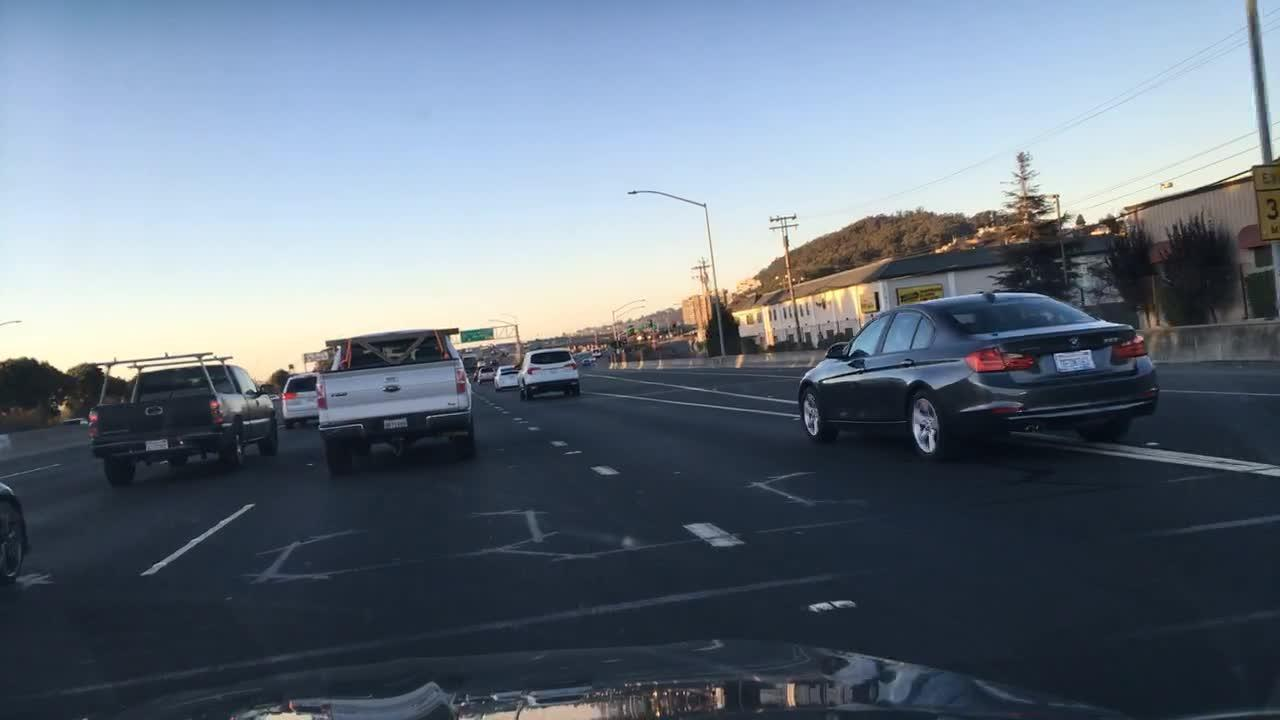bmw: (1066, 334, 1083, 350)
ford: (377, 382, 403, 395)
